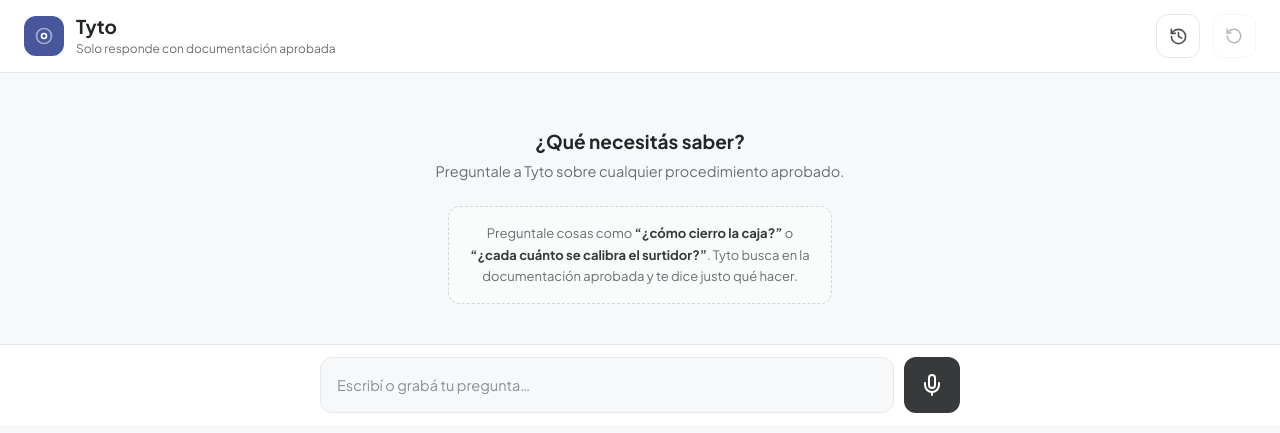
Test: ConsultarPage › un rechazo se muestra como mensaje honesto, no como error, e invita a reformular
Type "¿Cuál es el sentido de la vida?" into the field with placeholder "Escribí o grabá tu pregunta…". click: (607, 385)
box: left=320, top=357, right=894, bottom=413
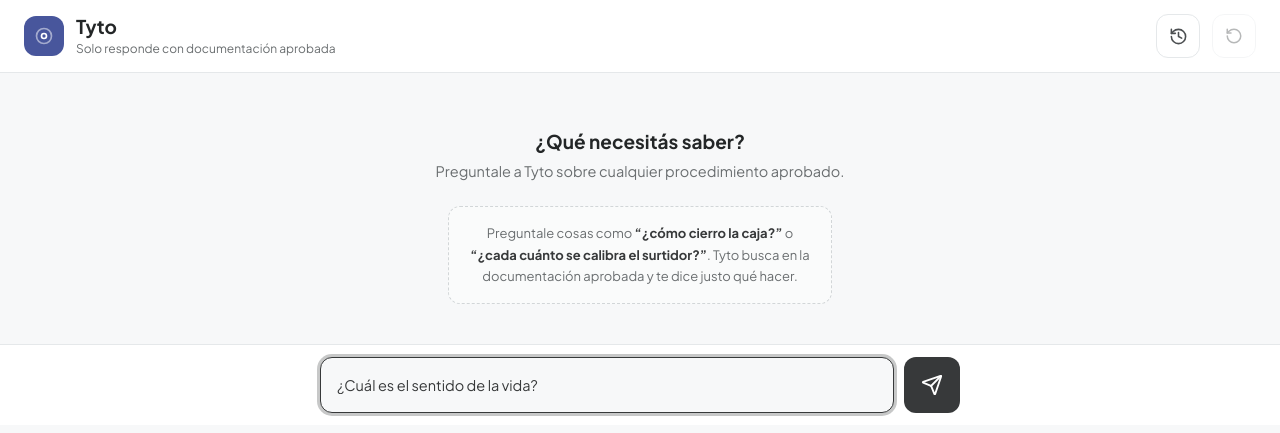
Click the button named "Enviar pregunta". click: (932, 385)
box: left=904, top=357, right=960, bottom=413
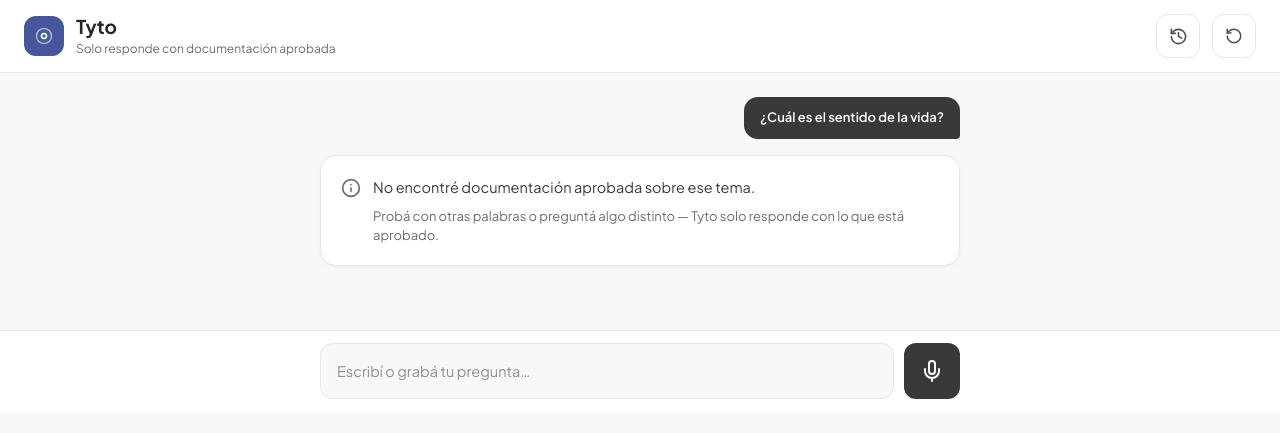
Now the text "No encontré documentación aprobada sobre ese tema." is shown, box left=373, top=178, right=755, bottom=196
Now the text "Probá con otras palabras" is shown, box left=373, top=208, right=904, bottom=243
